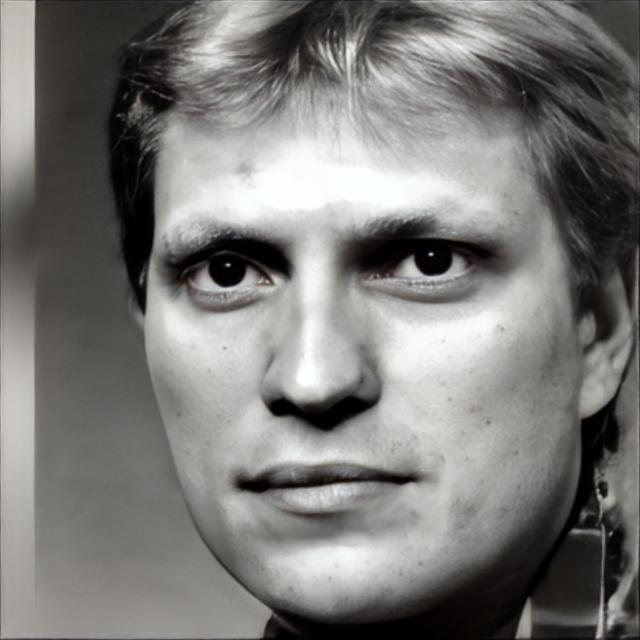neutral: (144, 51, 580, 626)
